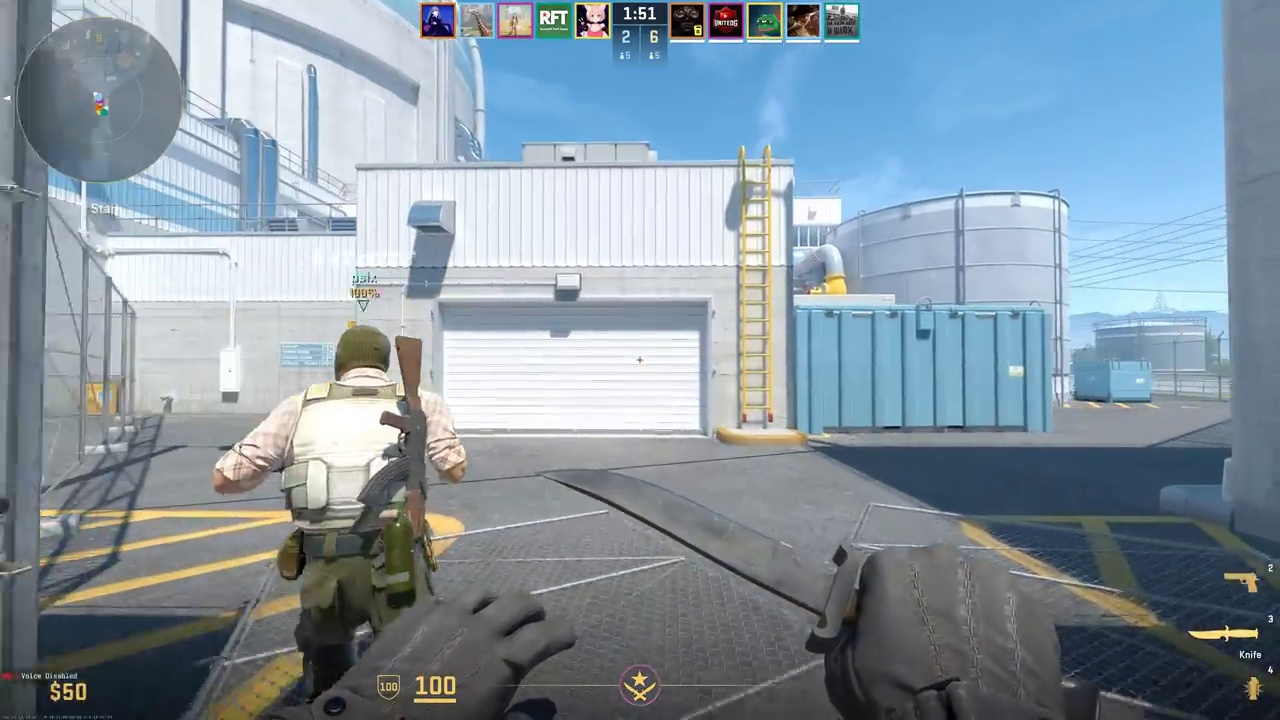Terrorist: (278, 326, 442, 709)
